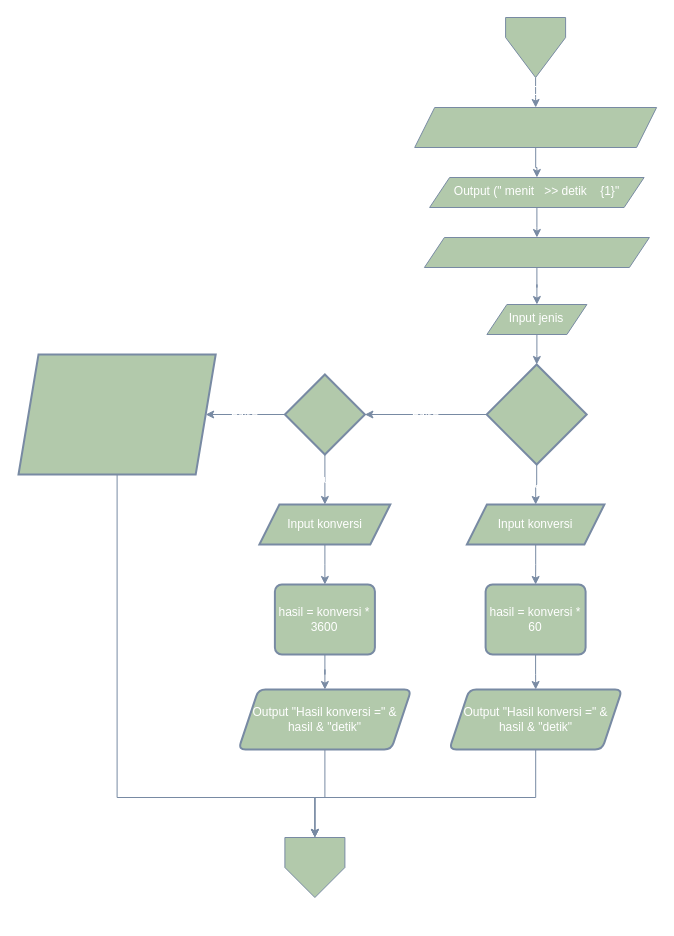
Some shapes in this 674 by 936 pixel diagram are drawn without their labels. Here are the shapes that lost their labels. From the top down, the centre of each, then its label:
point 535,127: Output "|PILIHAN KONVERSI WAKTU|"
point 536,252: Output " jam >> detik {2}"
point 116,414: Output "ERROR, MASUKKAN SESUAI KODE ANGKA YANG TELAH DIBERIKAN"
point 324,414: jenis == 2
point 536,414: jenis == 1
